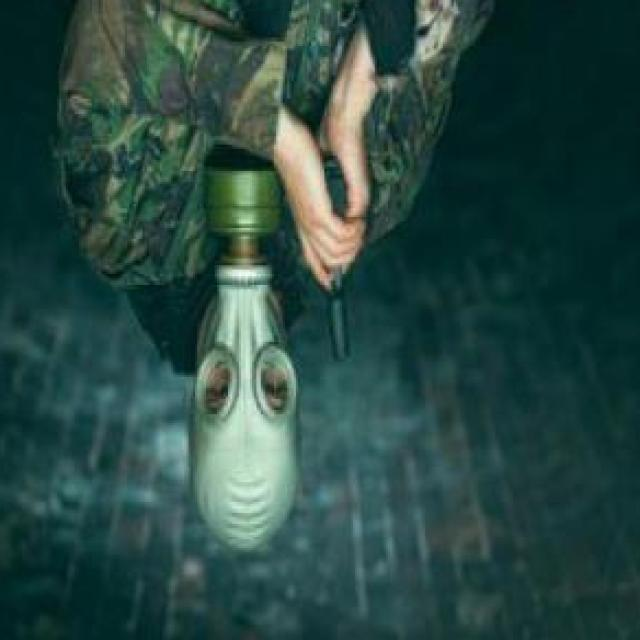pistol: (297, 140, 368, 373)
